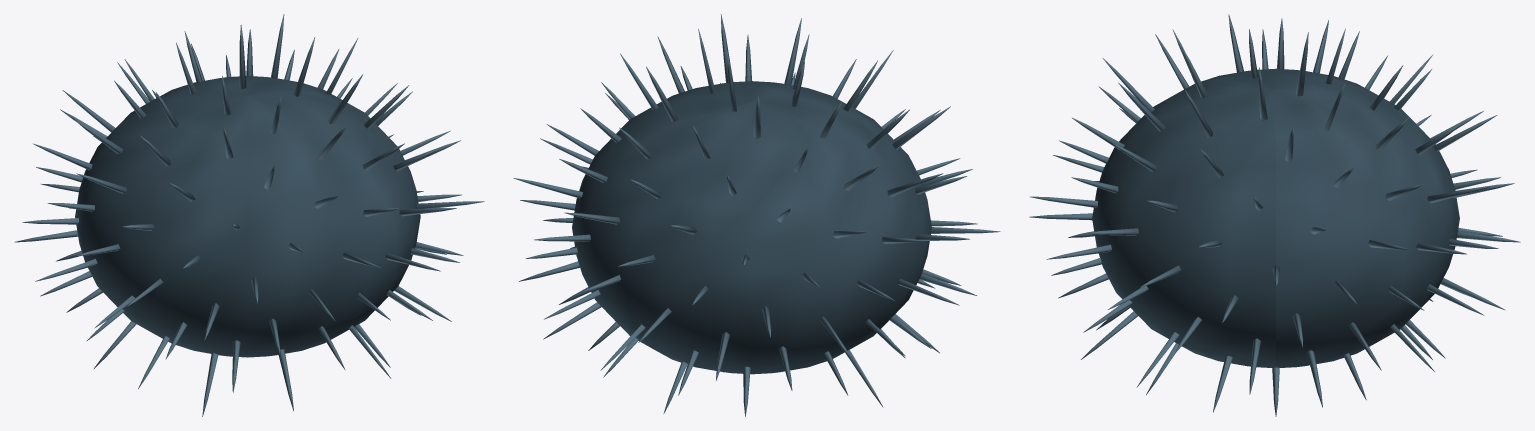
File: urchin-mobile.glb
3 renders of one model, left to right at view 1: azimuth 30°, elevation 25°; view 2: azimuth 150°, elevation 25°; view 3: azimuth 270°, elevation 25°, orthographic. The views are drawn at different scales.
Visible parts, largest first — view 1: porous-test, spine; view 2: porous-test, spine; view 3: porous-test, spine.
Part boxes in pixels (bbox=[...]): porous-test: bbox=[75, 76, 420, 357]; spine: bbox=[14, 14, 484, 416]; porous-test: bbox=[572, 81, 931, 374]; spine: bbox=[513, 14, 1000, 416]; porous-test: bbox=[1092, 68, 1459, 367]; spine: bbox=[1029, 14, 1520, 416].
Bounding box in the file's own units: 0.6014 × 0.4475 × 0.5883.
